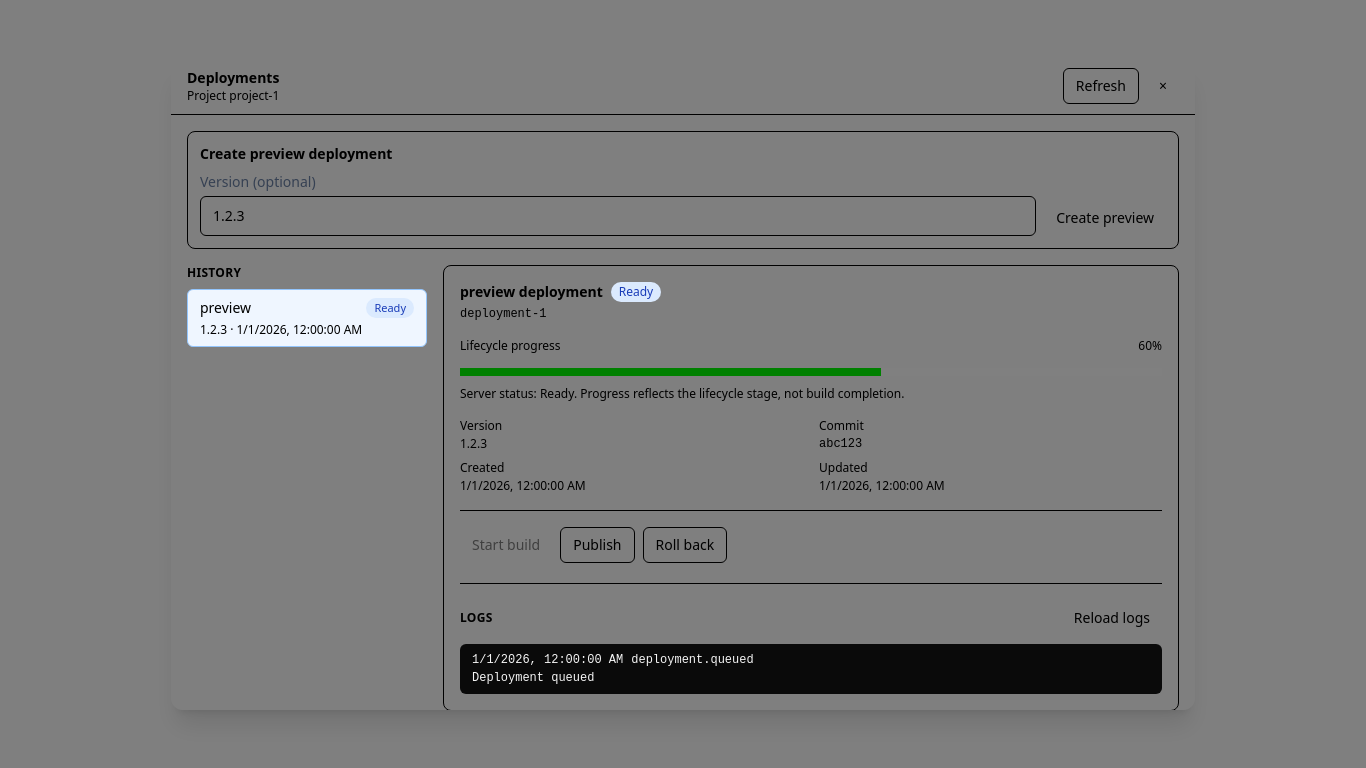
it: DeploymentPanel › surfaces the adapter conflict for publish and does not show a live URL
The width and height of the screenshot is (1366, 768).
Click the button "Publish" at (597, 545), box [560,527,634,563]
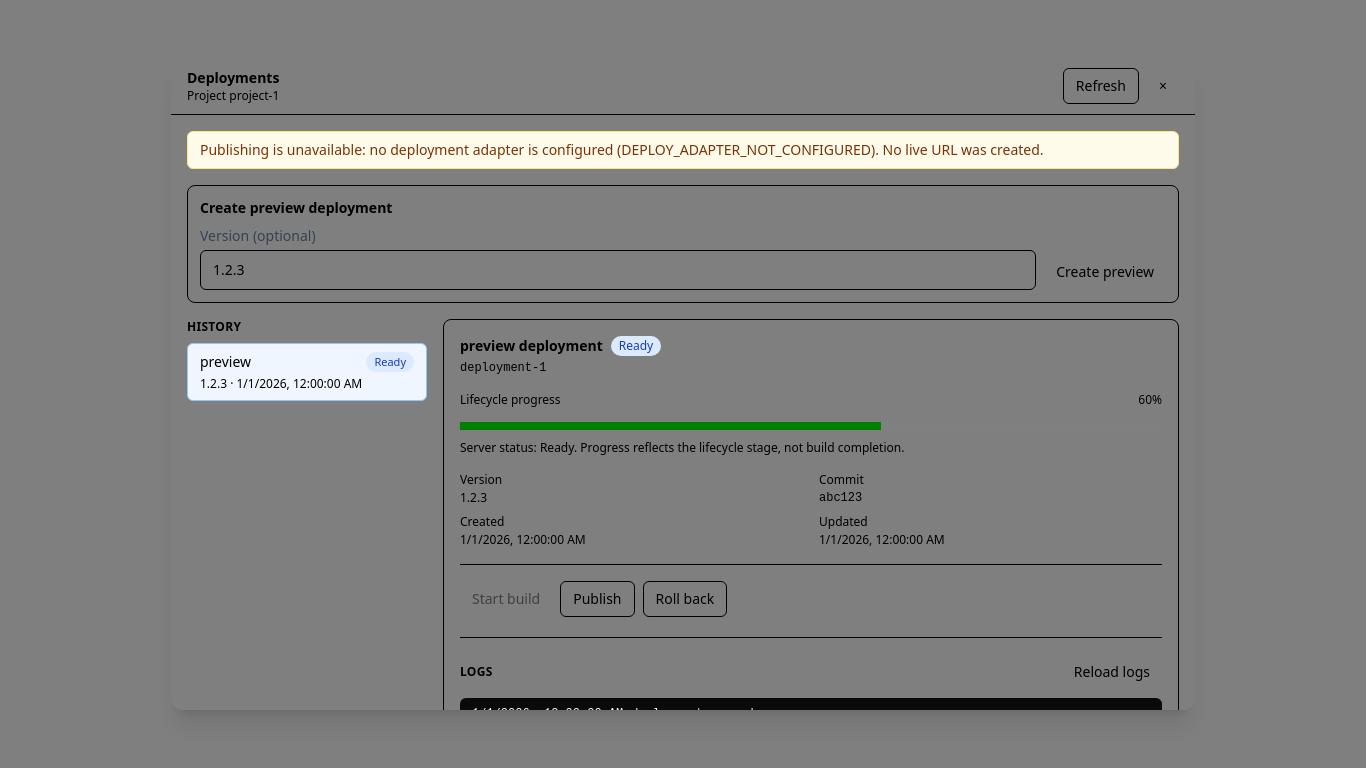
expect the message shows "Publishing is unavailable: no deployment adapter is configured": met, box [200,140,1044,159]
expect the message shows "DEPLOY_ADAPTER_NOT_CONFIGURED": met, box [200,140,1044,159]
expect the message shows "No live URL was created": met, box [200,140,1044,159]
